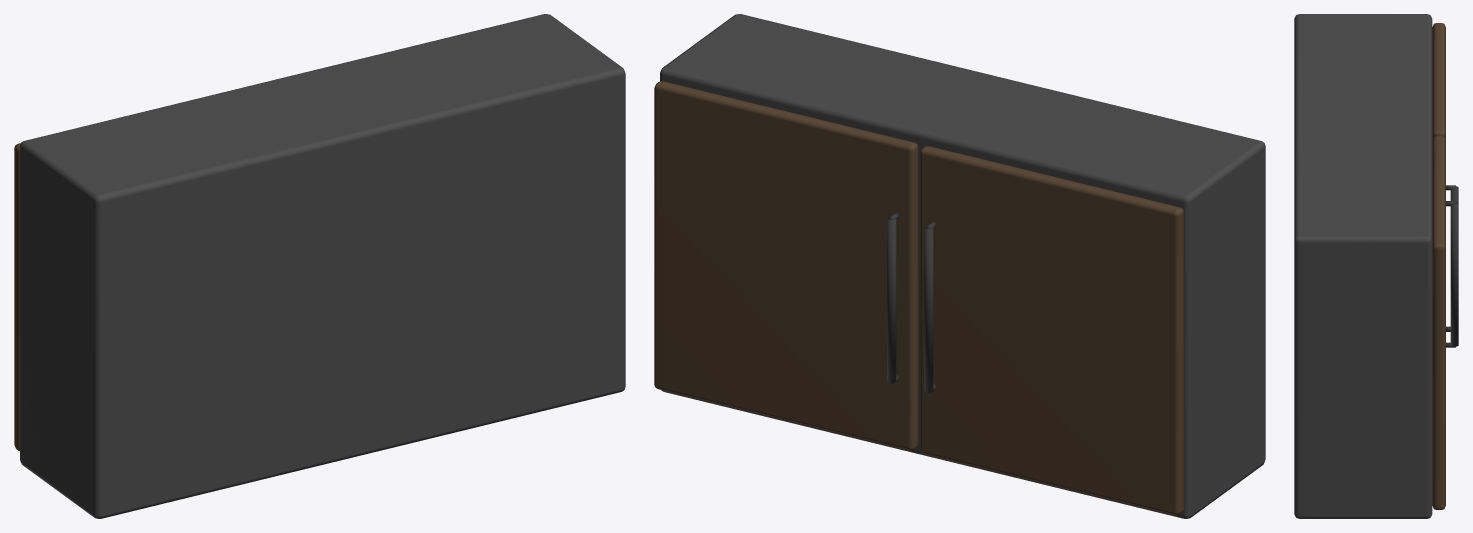
File: upper_cabinet.glb
3 views of the same model, side by side, from view 1: azimuth 30°, elevation 25°; view 2: azimuth 150°, elevation 25°; view 3: azimuth 270°, elevation 25° (orthographic). The views are drawn at different scales.
Visible parts, largest first — view 1: body; view 2: body; view 3: body.
Boxes of the visible parts, x1=… form: body: x1=14, y1=14, x2=625, y2=518; body: x1=654, y1=14, x2=1265, y2=518; body: x1=1294, y1=14, x2=1458, y2=518.
Bounding box in the file's own units: 1.2 × 0.7 × 0.369.
